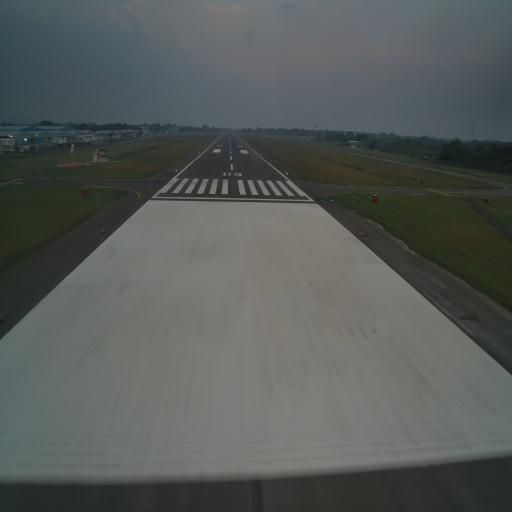on: (461, 305, 467, 320), (0, 310, 6, 322), (101, 226, 105, 234), (361, 230, 365, 237)
